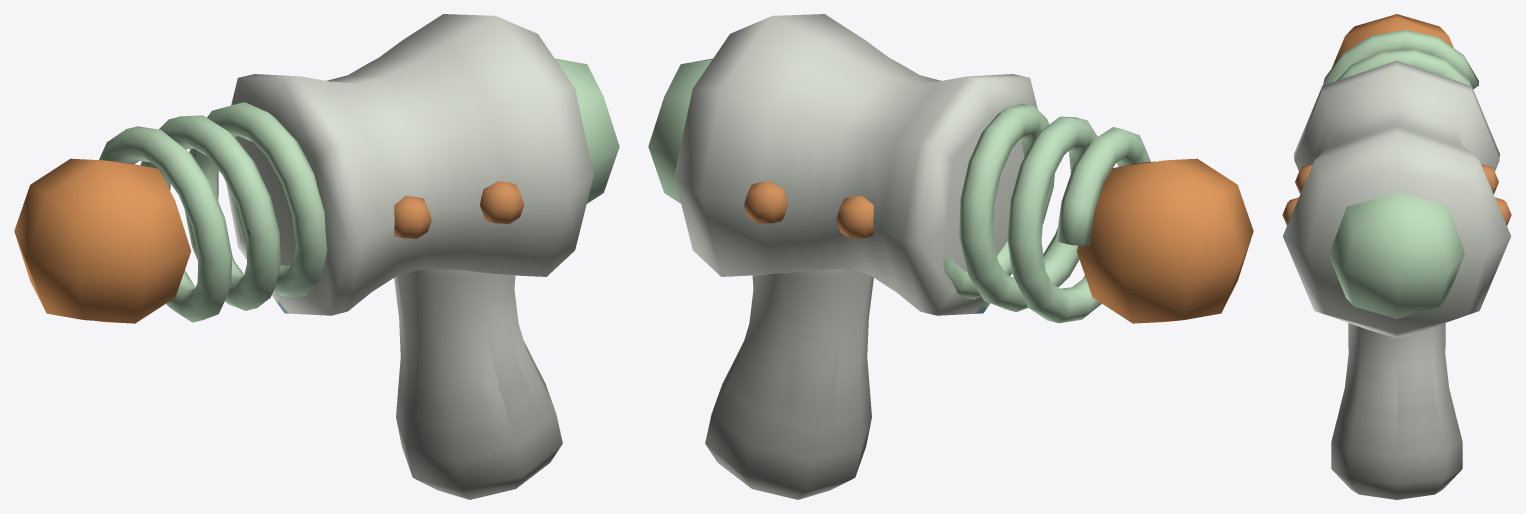
Rendered from Weapon_Shoot.fbx.
3 renders of one model, left to right at view 1: azimuth 30°, elevation 25°; view 2: azimuth 150°, elevation 25°; view 3: azimuth 270°, elevation 25°, orthographic. The views are drawn at different scales.
Visible parts, largest first — view 1: Cube.080, Cube.082, Circle.024, Cube.071, Cube.081, Cube.084; view 2: Cube.080, Cube.082, Circle.024, Cube.071, Cube.081, Cube.084; view 3: Cube.080, Cube.082, Cube.081, Circle.024, Cube.071, Cube.084.
Part boxes in pixels (x1=…): Cube.080: x1=226, y1=14, x2=593, y2=315; Cube.082: x1=394, y1=269, x2=562, y2=499; Circle.024: x1=99, y1=102, x2=327, y2=322; Cube.071: x1=14, y1=158, x2=191, y2=323; Cube.081: x1=555, y1=58, x2=619, y2=203; Cube.084: x1=394, y1=181, x2=523, y2=238; Cube.080: x1=674, y1=14, x2=1037, y2=315; Cube.082: x1=705, y1=269, x2=873, y2=499; Circle.024: x1=943, y1=103, x2=1150, y2=323; Cube.071: x1=1076, y1=158, x2=1253, y2=323; Cube.081: x1=648, y1=58, x2=712, y2=203; Cube.084: x1=744, y1=181, x2=873, y2=238; Cube.080: x1=1282, y1=60, x2=1511, y2=337; Cube.082: x1=1331, y1=323, x2=1462, y2=499; Cube.081: x1=1329, y1=193, x2=1464, y2=318; Circle.024: x1=1323, y1=30, x2=1478, y2=89; Cube.071: x1=1332, y1=14, x2=1453, y2=67; Cube.084: x1=1282, y1=164, x2=1511, y2=225.
Size of the model in its own units: 537 by 406 by 229.
